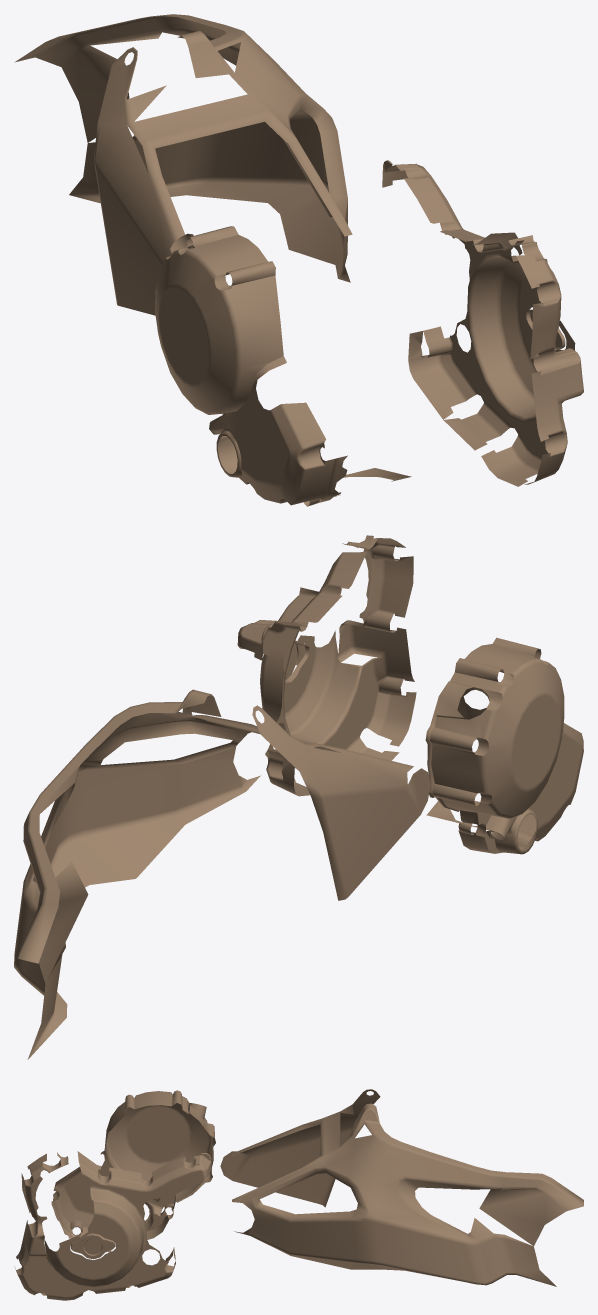
The model's file is Engine_Guard.glb.
3 views of the same model, one above another, from view 1: azimuth 30°, elevation 25°; view 2: azimuth 150°, elevation 25°; view 3: azimuth 270°, elevation 25° (orthographic). The views are drawn at different scales.
Parts seen in each view (by area): view 1: EngineGuard; view 2: EngineGuard; view 3: EngineGuard.
Part boxes in pixels (left/top/right/bottom): EngineGuard: left=14, top=14, right=583, bottom=506; EngineGuard: left=14, top=535, right=583, bottom=1059; EngineGuard: left=15, top=1089, right=583, bottom=1300.
Size of the model in its own units: 0.3632 by 0.3046 by 0.9141.
